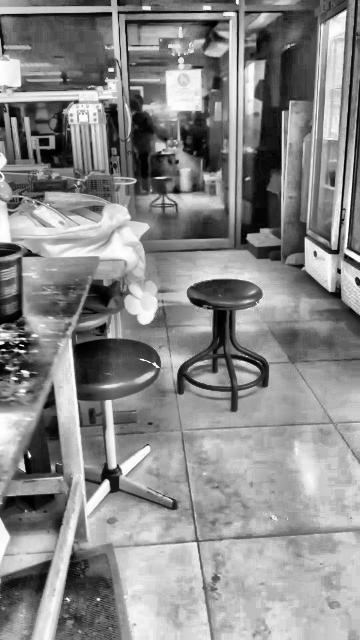pot: (0, 243, 23, 323)
